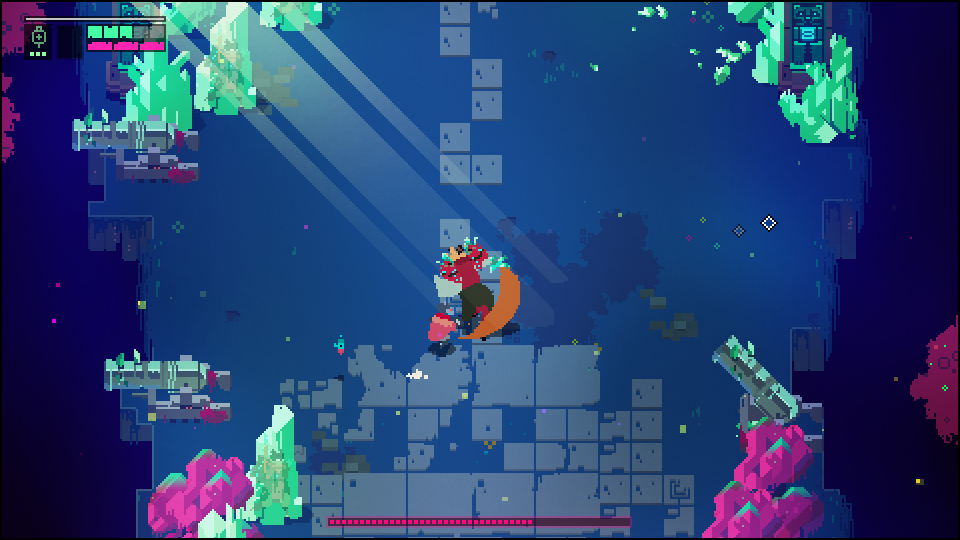hanged_man: (436, 243, 524, 338)
player: (425, 307, 462, 359)
